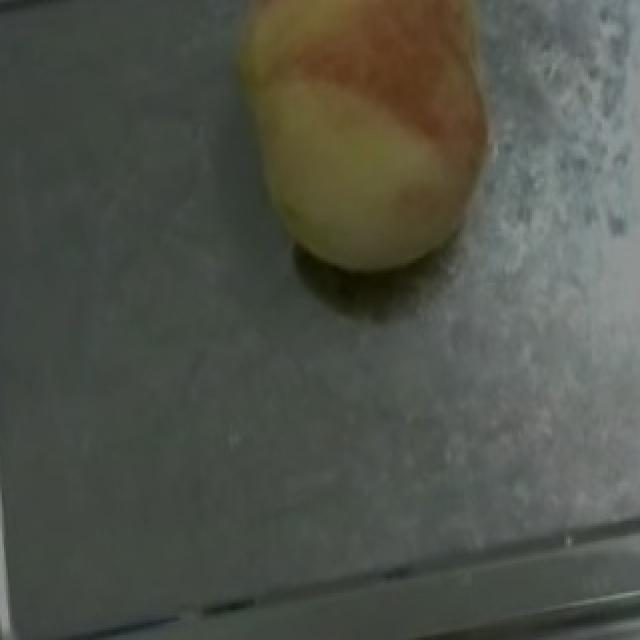Fruit: (196, 0, 526, 310)
